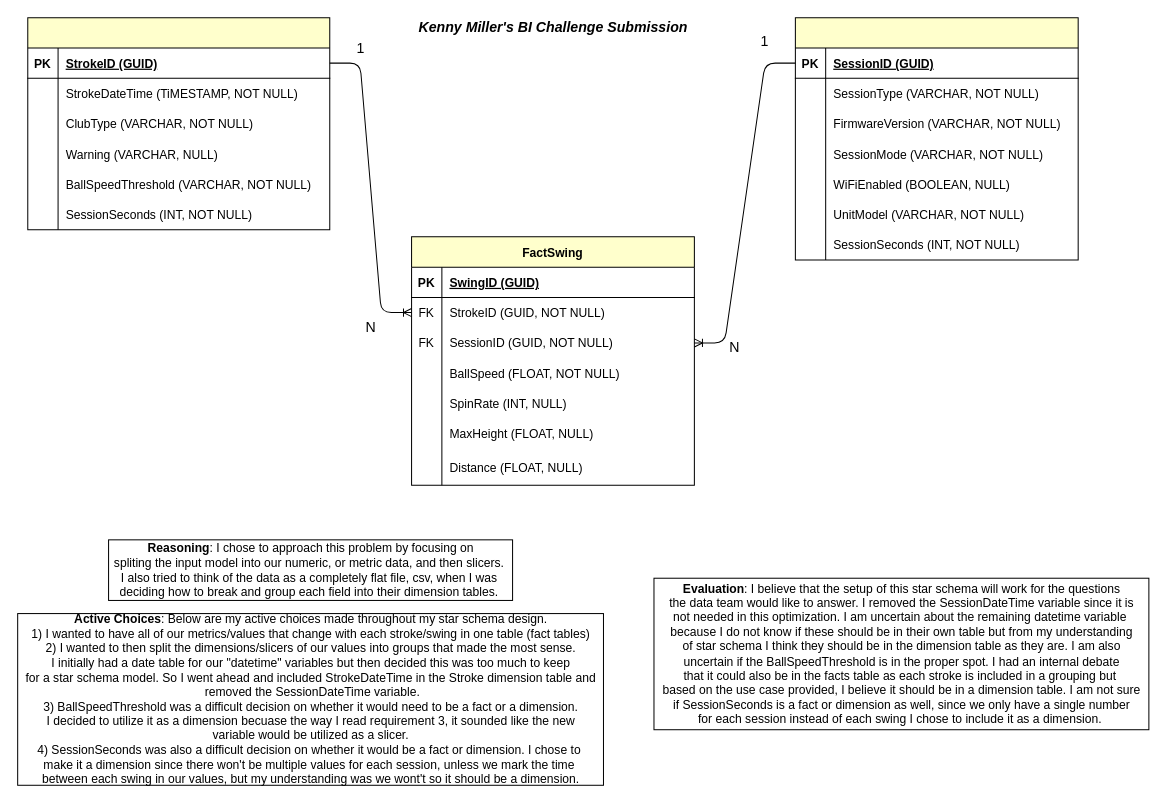
Image size: 1167x804. Some labels were removed from this diagram. The shapes that lost their labels are listed below. From the top down, each one's box as (x1, y1, x2, y2) in pixels, then its label:
(27, 17, 330, 230): DimStroke
(794, 17, 1078, 260): DimSession
